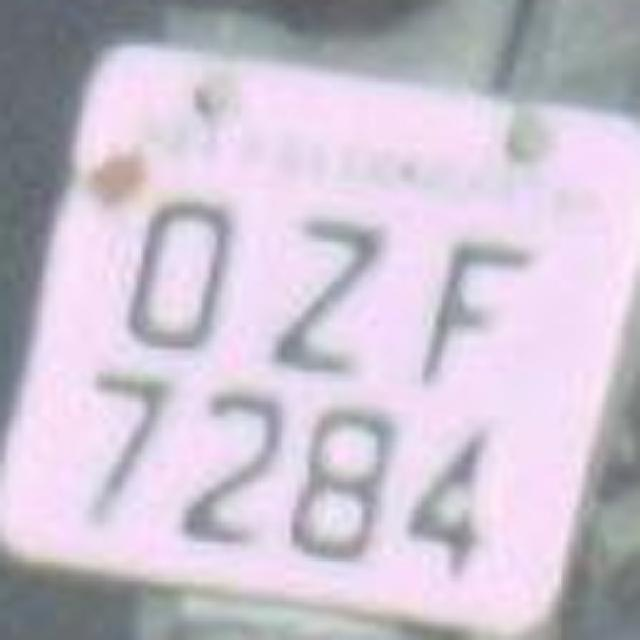2: (148, 371, 300, 564)
4: (376, 400, 509, 600)
7: (45, 340, 180, 545)
8: (268, 371, 404, 584)
F: (400, 212, 548, 412)
O: (105, 164, 260, 371)
Z: (228, 196, 408, 389)
